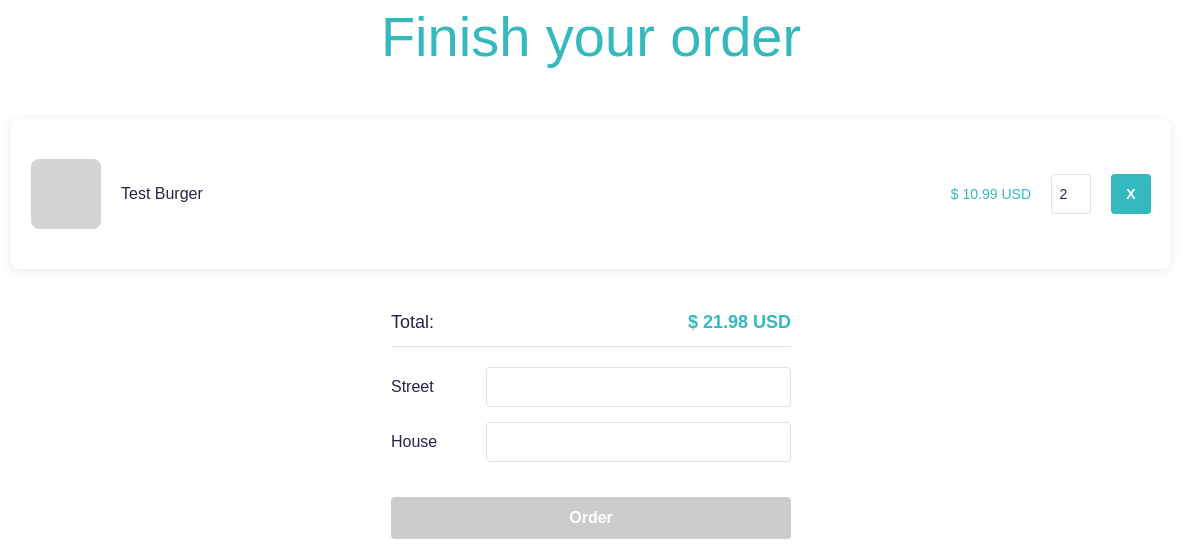
Test: OrderSection › submits order and clears cart
The width and height of the screenshot is (1183, 556).
Expected: the heading "Test Burger" is shown, [121,185,203,202]
Type "Test Street" into the field labelled "Street" at (638, 387), box [486,367,791,407]
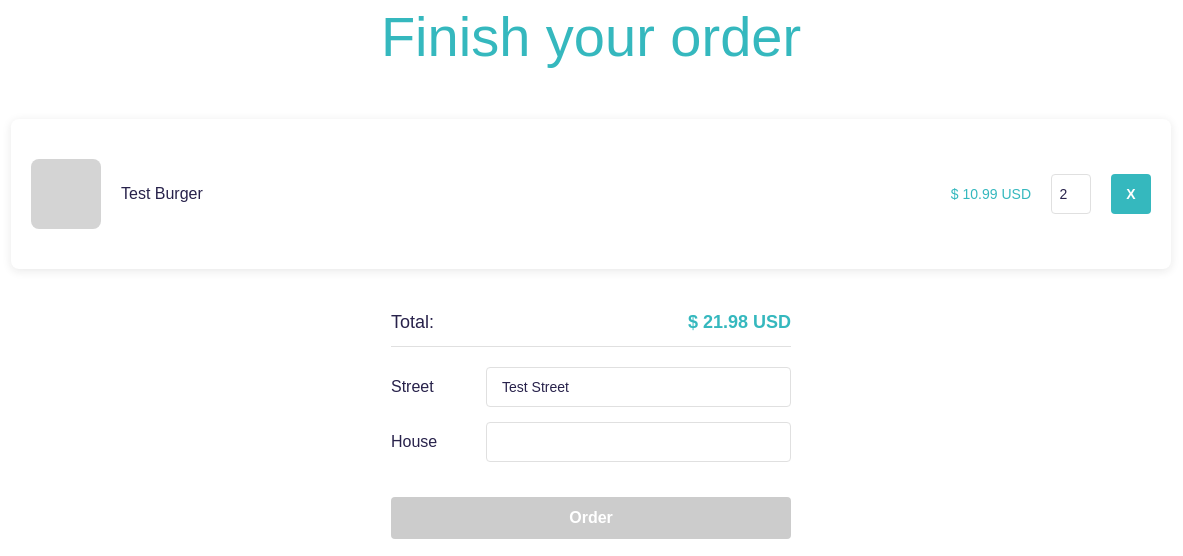
Type "123" into the field labelled "House" at (638, 442), box [486,422,791,462]
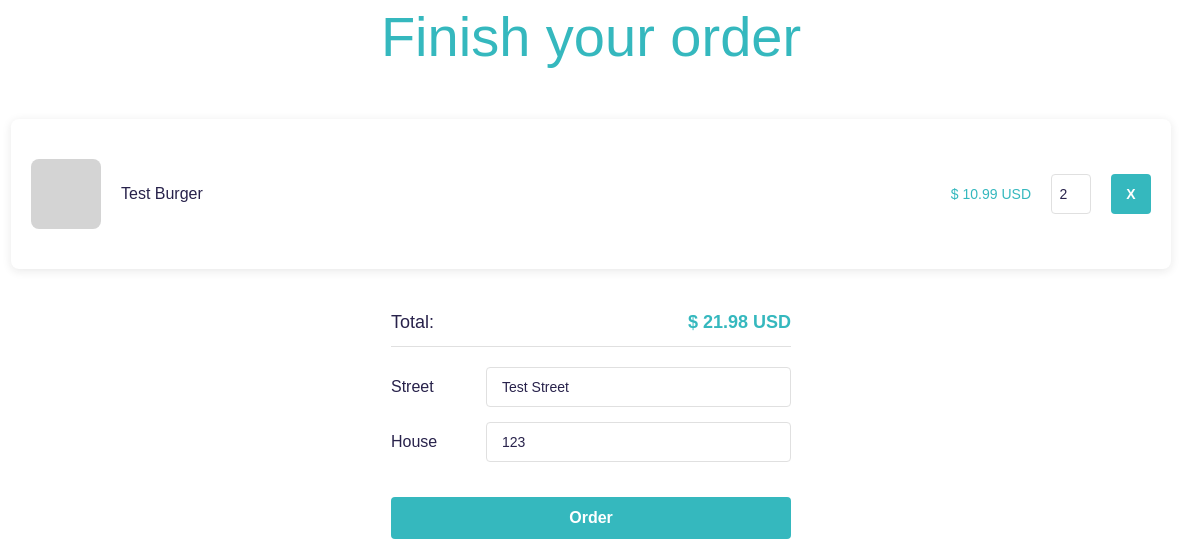
Click the button "Order" at (591, 518), box [391,497,791,539]
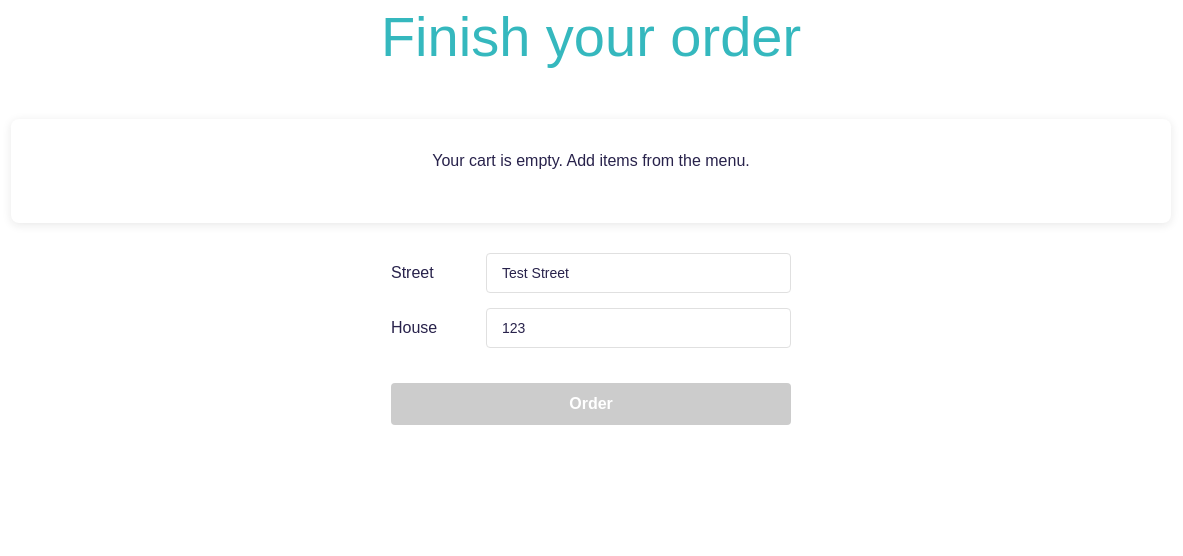
Expected: the text "Your cart is empty. Add items from the menu." is shown, [432,152,750,169]
